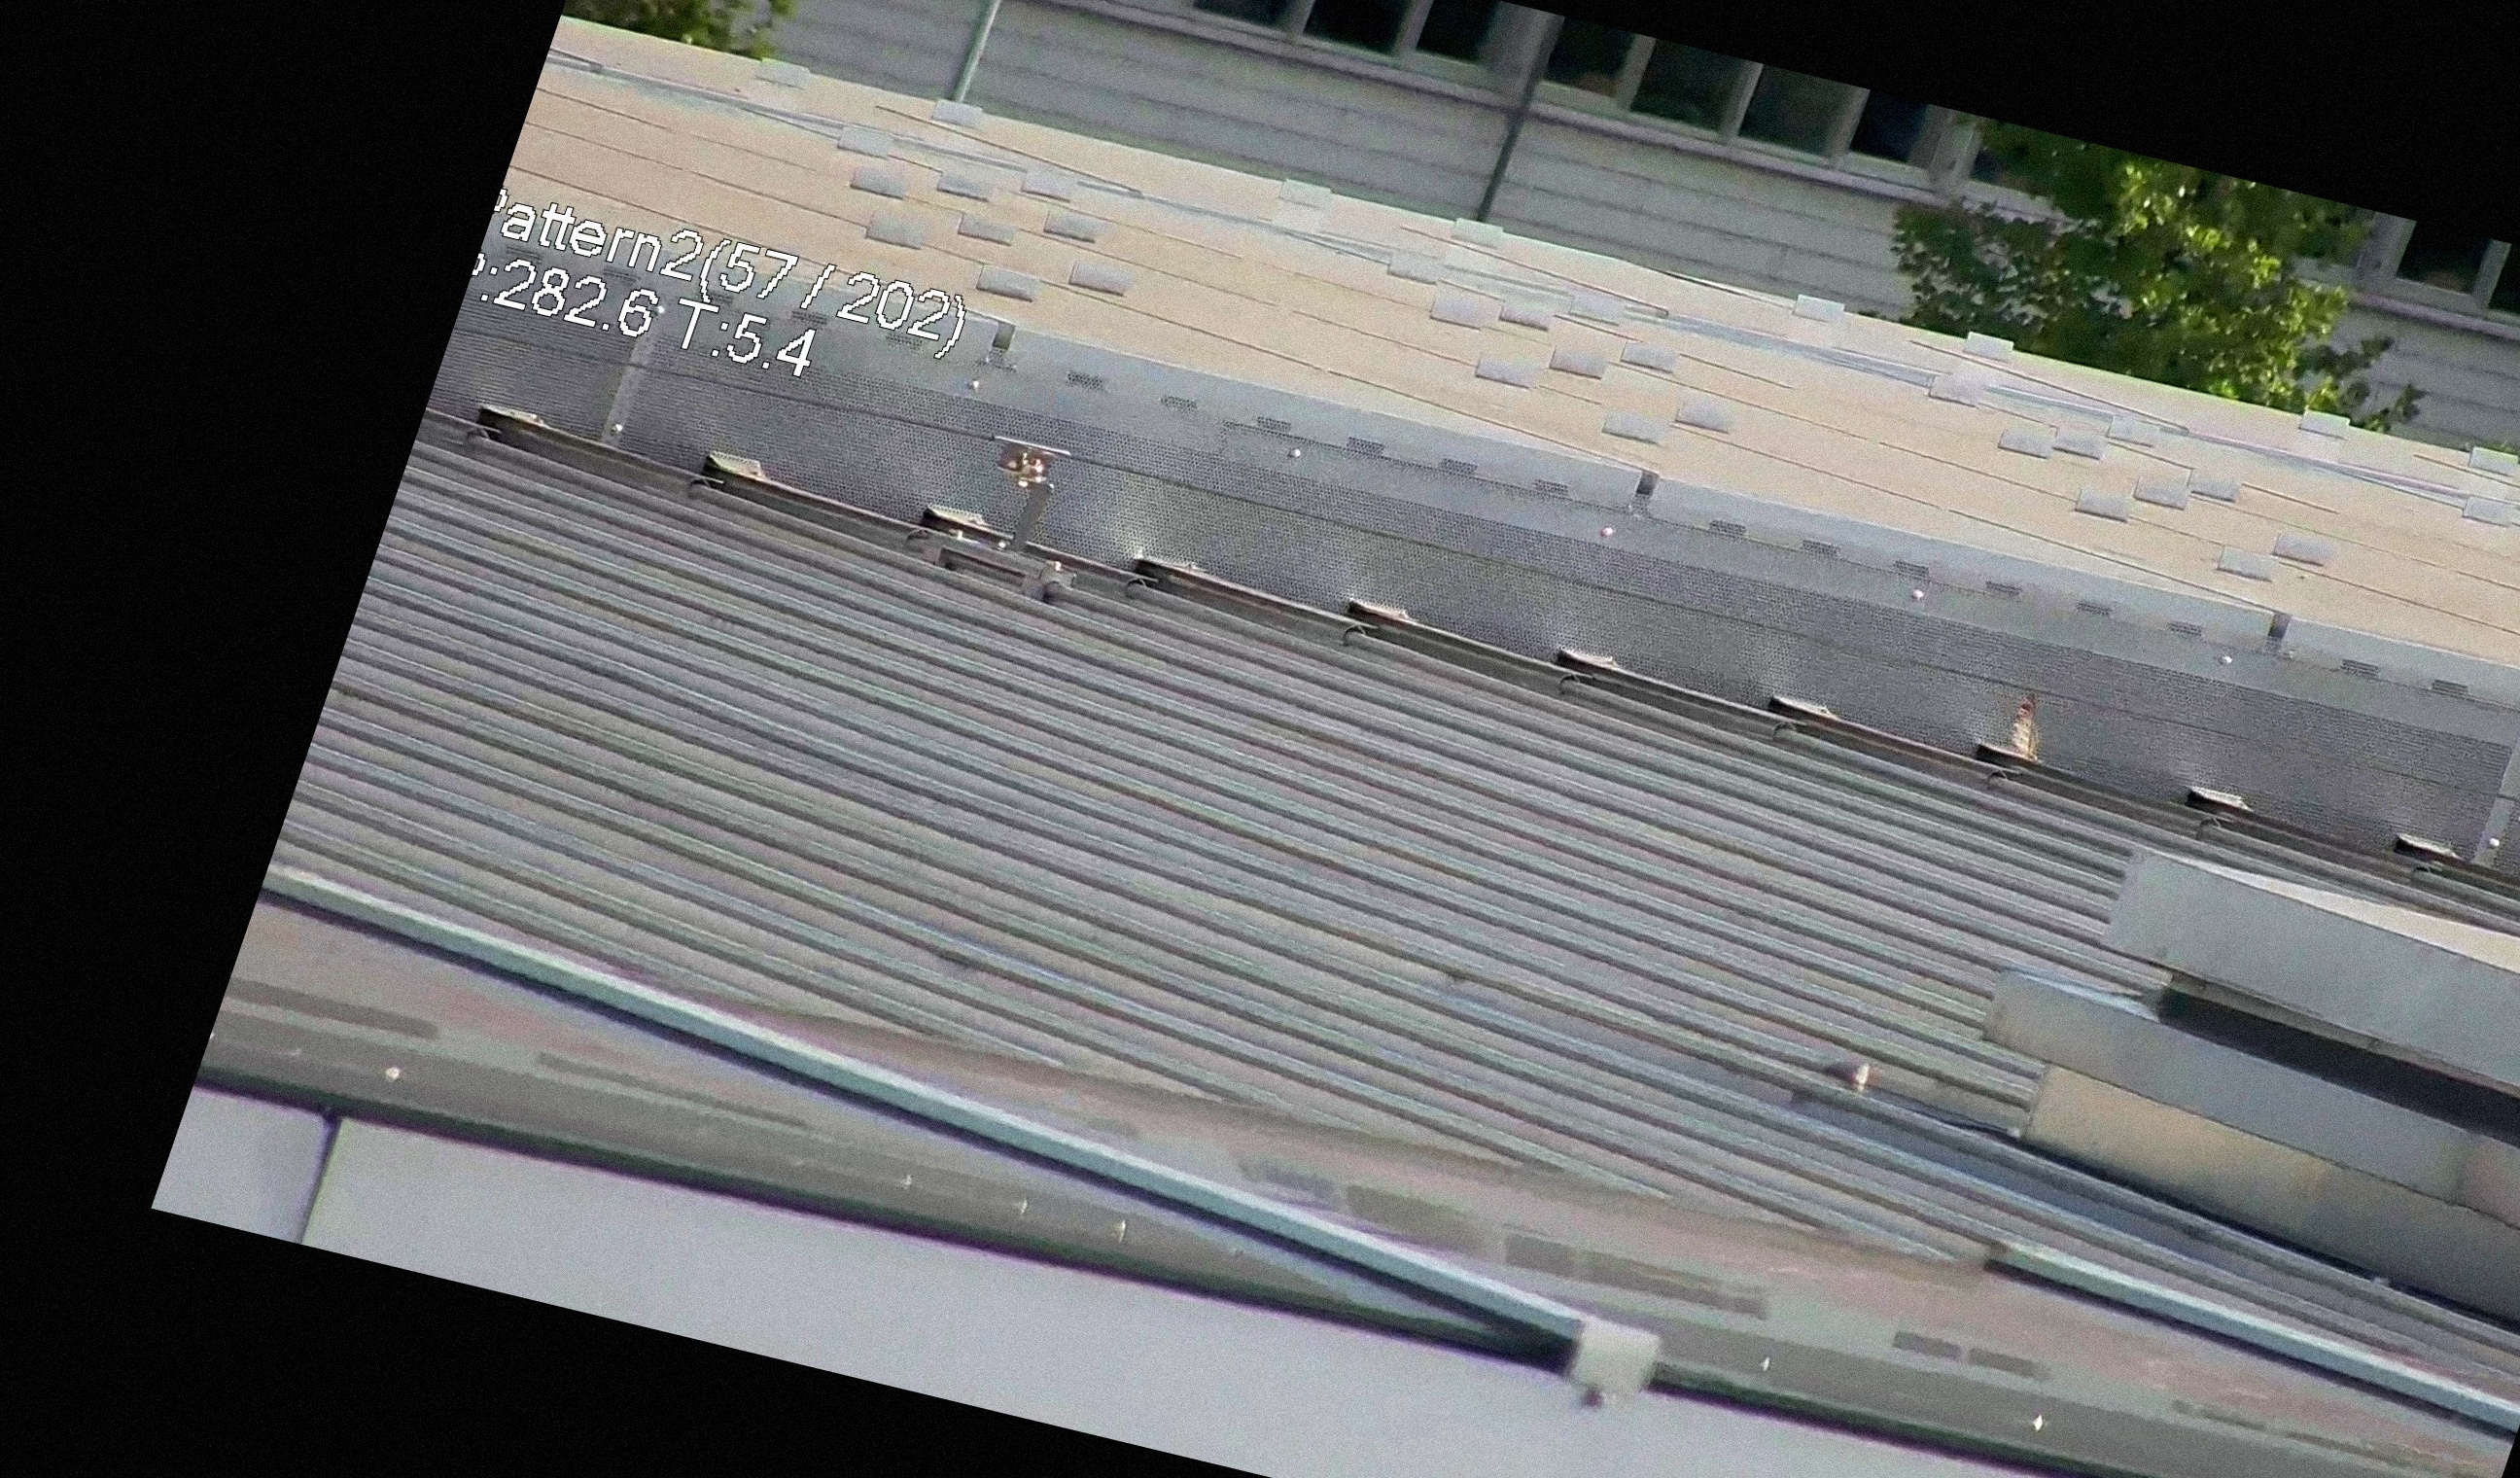Other: (1973, 670, 2077, 779)
